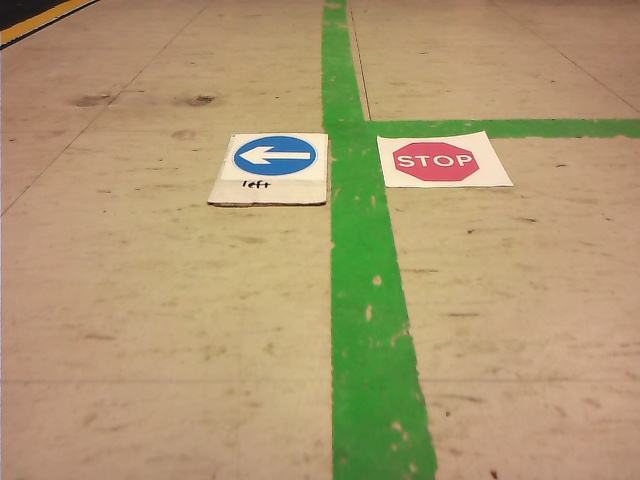STOP: (393, 142, 479, 180)
TURN LEFT: (233, 135, 316, 175)
